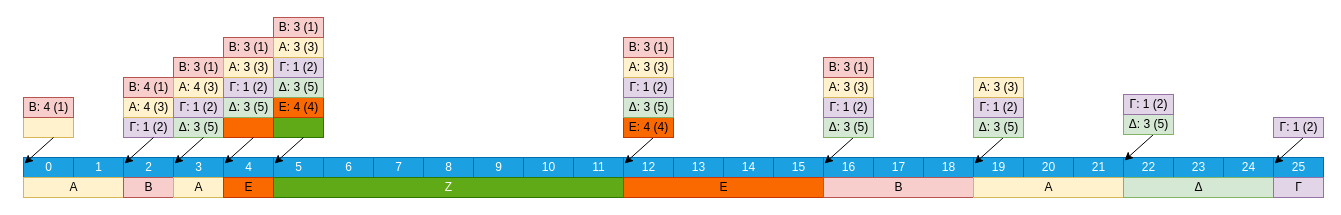
The diagram is 1341 pixels wide and 215 high, and some of its shapes have lost their labels. The box of each missing label's shape, as (x1, y1, x2, y2) in pixels:
A: 6 (3): (22, 116, 74, 138)
Ε: 5 (4): (222, 116, 274, 138)
Ζ: 7 (1): (272, 116, 324, 138)
